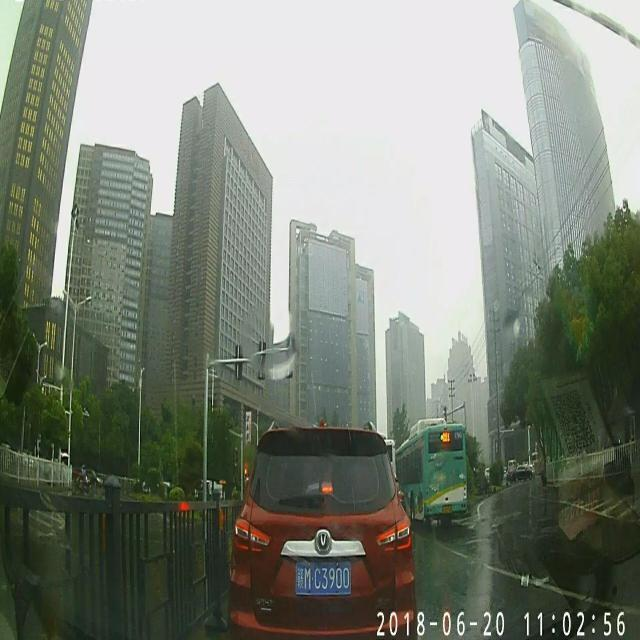car: (225, 422, 420, 638)
